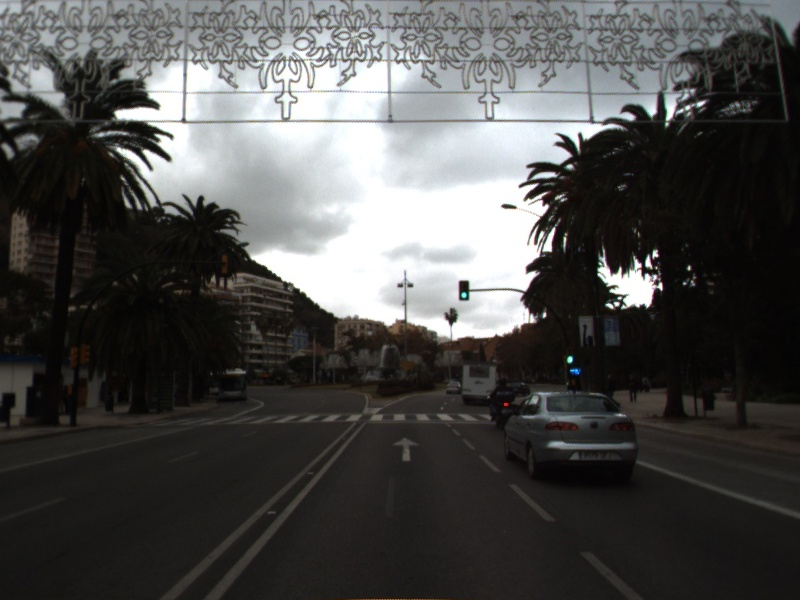STRAIGHT: (390, 435, 423, 463)
